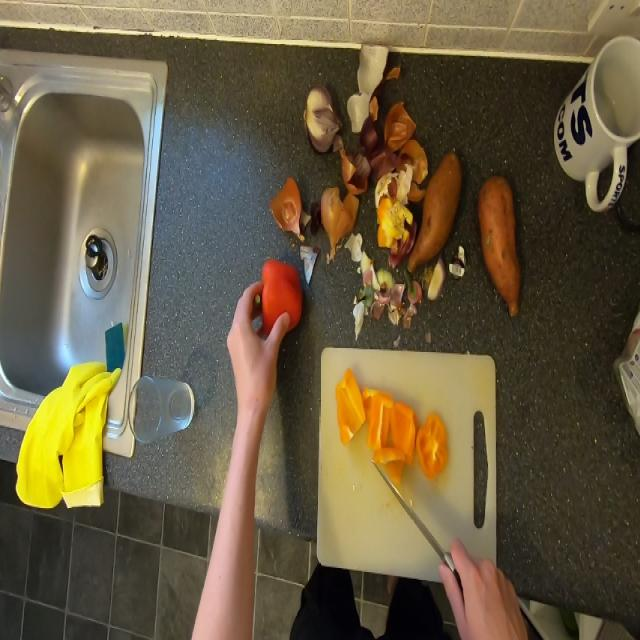knife: (370, 456, 454, 577)
left hand: (225, 280, 291, 416)
mug: (550, 32, 640, 214)
onion: (300, 80, 340, 156)
pepper: (261, 252, 303, 332)
right hand: (434, 531, 525, 640)
sink: (9, 67, 133, 428)
sponge: (130, 375, 194, 441), (101, 320, 127, 379)
sweet potato: (477, 171, 529, 328)
